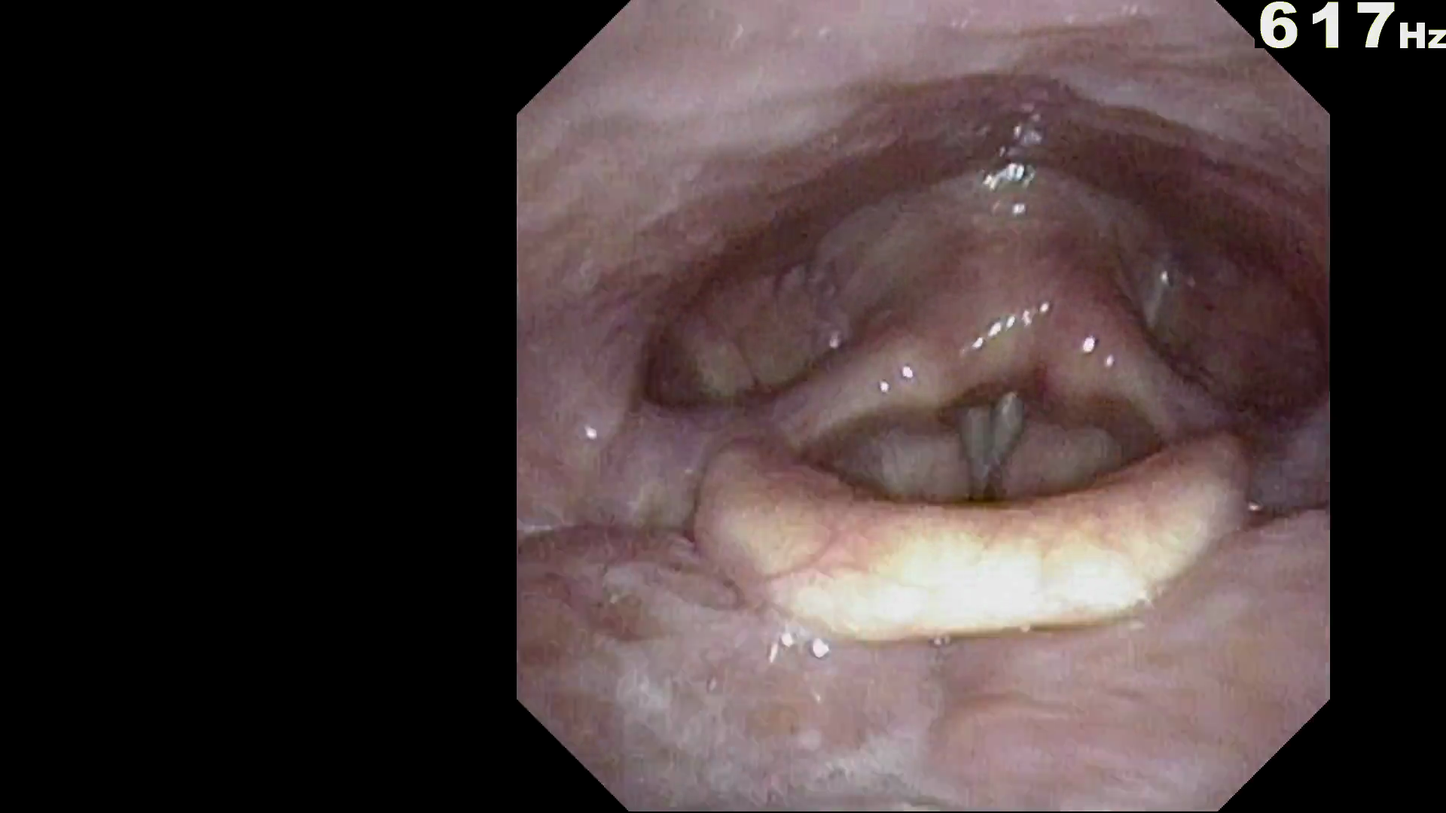epiglottis: (709, 360, 1279, 616)
